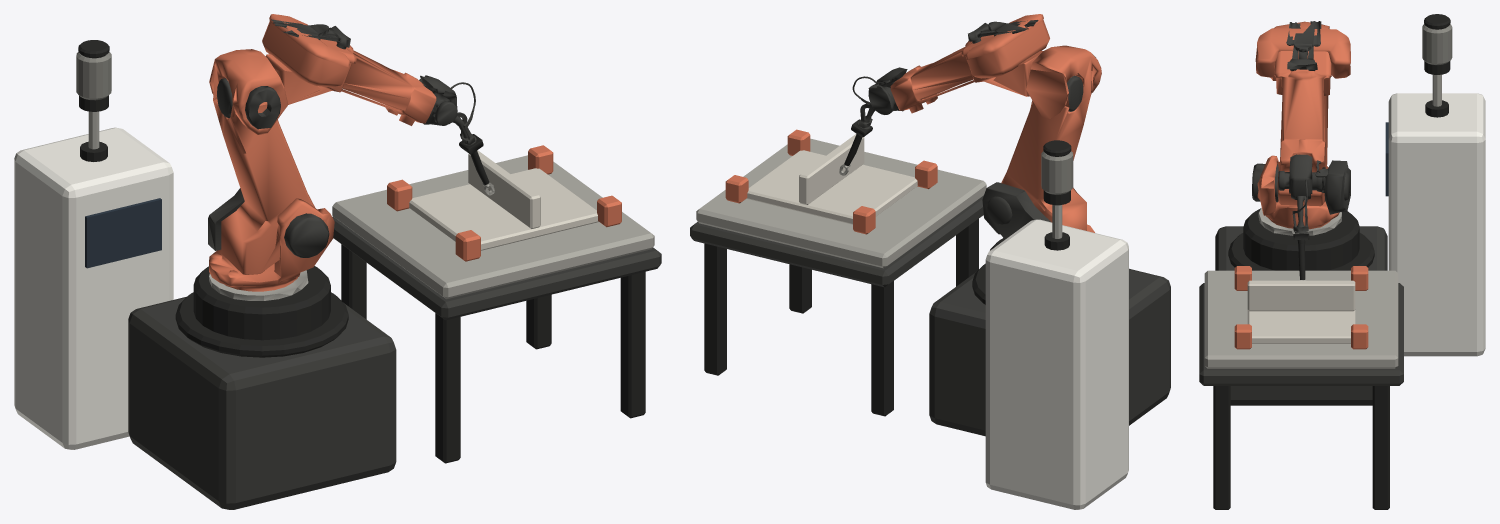
The model's file is welding_robot.glb.
3 views of the same model, side by side, from view 1: azimuth 30°, elevation 25°; view 2: azimuth 150°, elevation 25°; view 3: azimuth 270°, elevation 25° (orthographic). The views are drawn at different scales.
Visible parts, largest first — view 1: welding_robot_parts, arm_parts; view 2: welding_robot_parts, arm_parts; view 3: welding_robot_parts, arm_parts.
Part boxes in pixels (x1=…): welding_robot_parts: x1=14, y1=40, x2=661, y2=509; arm_parts: x1=208, y1=14, x2=494, y2=300; welding_robot_parts: x1=690, y1=129, x2=1170, y2=509; arm_parts: x1=839, y1=14, x2=1101, y2=239; welding_robot_parts: x1=1199, y1=14, x2=1485, y2=509; arm_parts: x1=1252, y1=21, x2=1350, y2=280.
Size of the model in its own units: 2.2 by 1.85 by 1.33.
